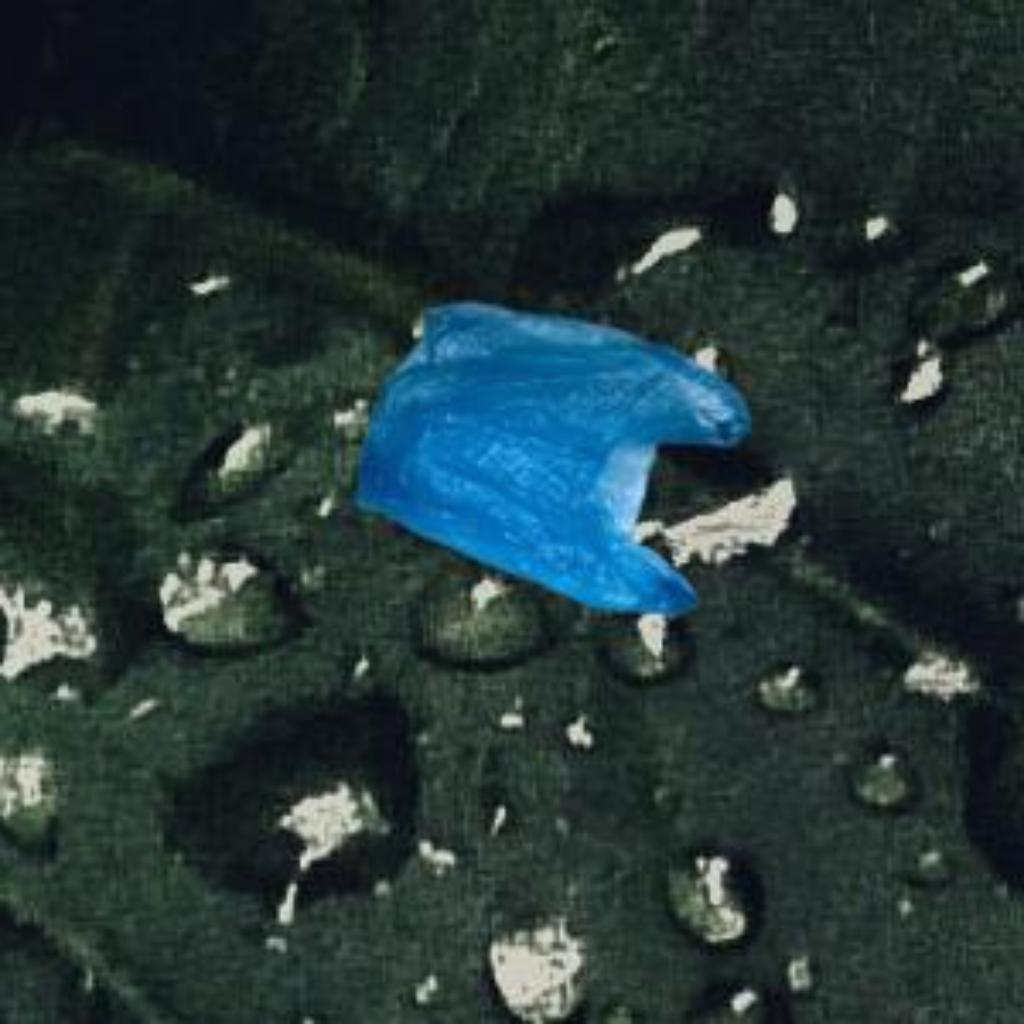garbage: (333, 295, 783, 626)
